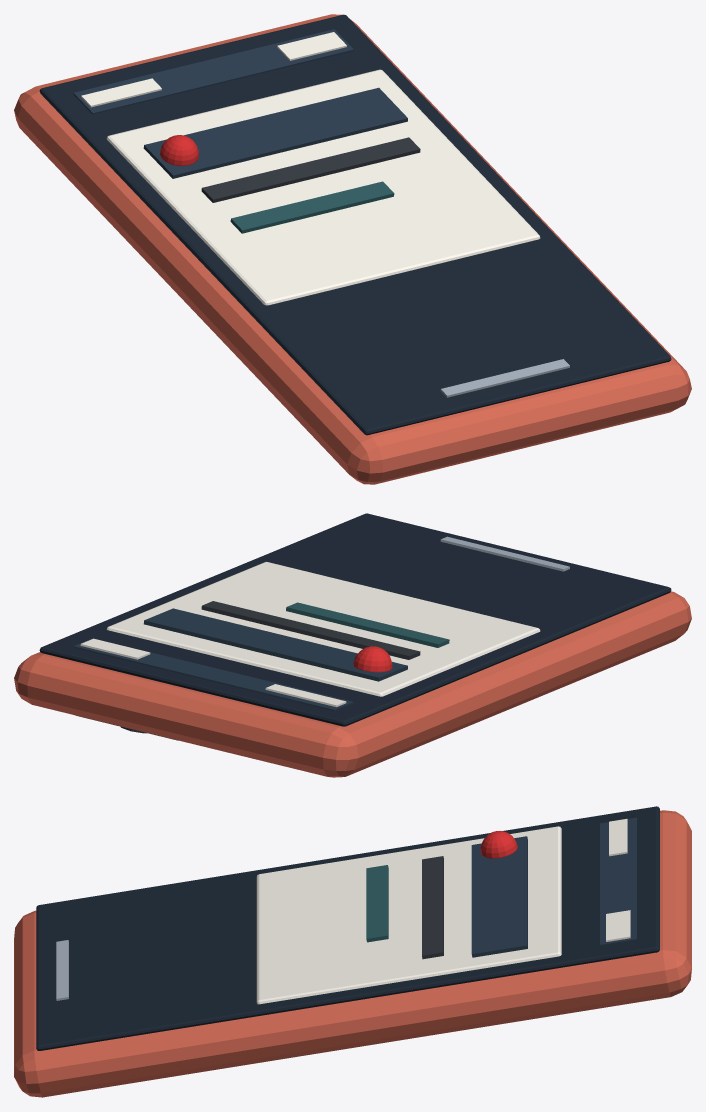
The model's file is Collectible_Phone.glb.
3 views of the same model, one above another, from view 1: azimuth 30°, elevation 25°; view 2: azimuth 150°, elevation 25°; view 3: azimuth 270°, elevation 25° (orthographic). The views are drawn at different scales.
Parts seen in each view (by area): view 1: Collectible_Phone; view 2: Collectible_Phone; view 3: Collectible_Phone.
Boxes of the visible parts, x1,y1,x2,y2 form: Collectible_Phone: [14, 14, 691, 484]; Collectible_Phone: [14, 513, 691, 777]; Collectible_Phone: [14, 806, 691, 1097].
Size of the model in its own units: 0.12 by 0.0528 by 0.2167.
